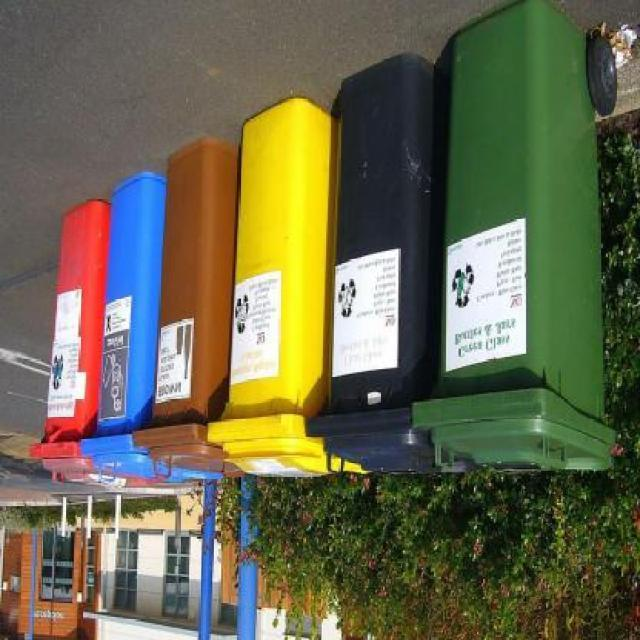garbage container: (429, 2, 631, 488), (328, 37, 451, 485), (228, 77, 337, 494), (152, 129, 240, 488), (27, 182, 115, 499), (98, 175, 160, 486)
